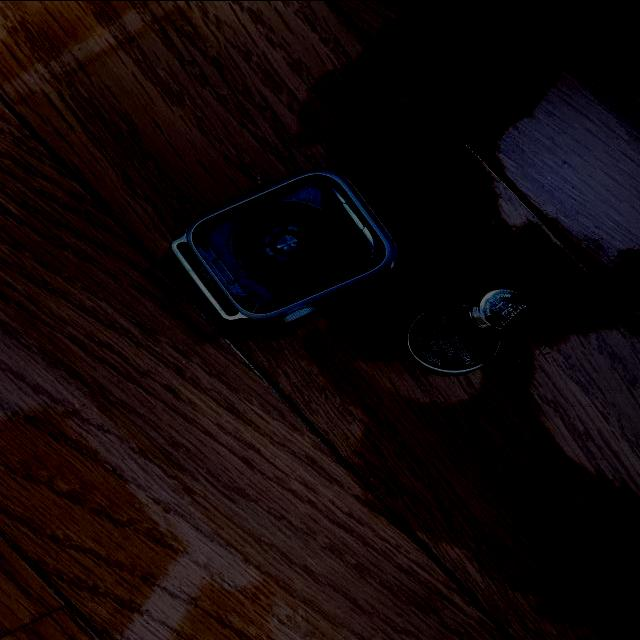COIN: (405, 304, 501, 372), (468, 288, 532, 330)
